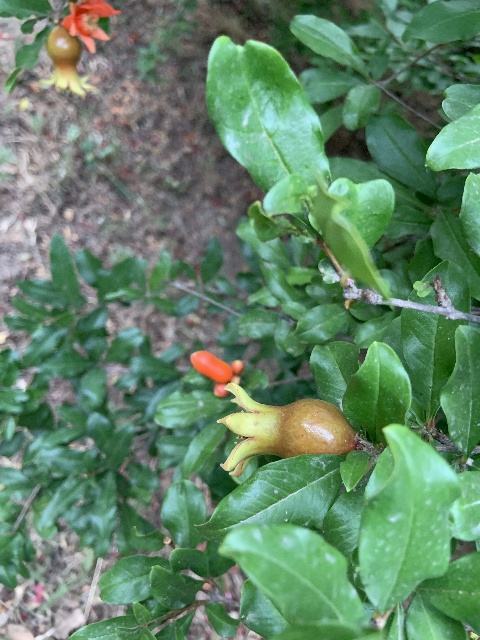bud: (190, 351, 232, 383), (213, 383, 229, 397), (230, 359, 243, 374)
early-fruit: (216, 382, 357, 477), (34, 27, 97, 97)
flower: (60, 0, 121, 53)
